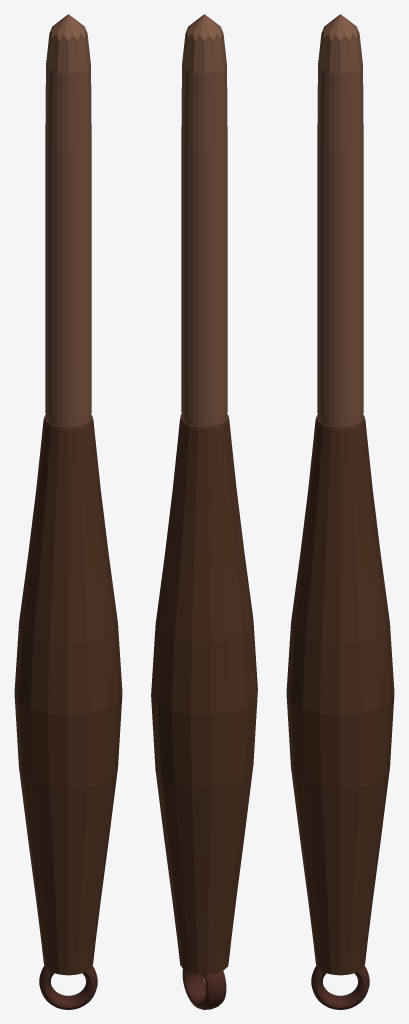
The model's file is Wand 111.glb.
3 renders of one model, left to right at view 1: azimuth 90°, elevation 25°; view 2: azimuth 210°, elevation 25°; view 3: azimuth 270°, elevation 25°, orthographic.
Visible parts, largest first — view 1: GeneratedWand; view 2: GeneratedWand; view 3: GeneratedWand.
Boxes of the visible parts, x1,y1,x2,y2 form: GeneratedWand: (14, 14, 122, 1009); GeneratedWand: (151, 14, 257, 1009); GeneratedWand: (286, 14, 394, 1009).
Bounding box in the file's own units: 0.0499 × 0.5063 × 0.0499.
